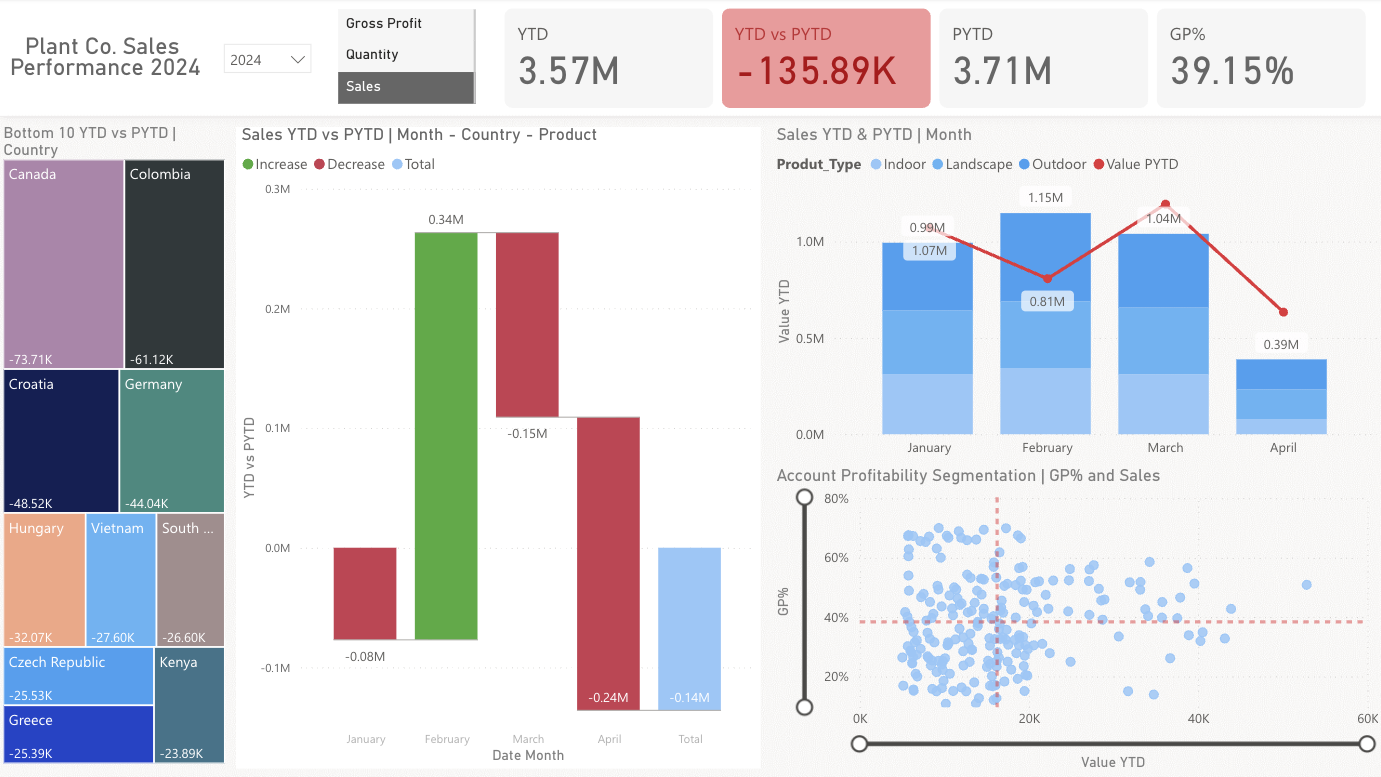

Layout of this report page (visuals, bound fields, positions):
{"tool":"powerbi","page":{"name":"Performance Report","canvas":[1280,720],"ordinal":0},"visuals":[{"type":"cardVisual","fields":{"Data":["_Measures.S_YTD","_Measures.YTD vs PYTD","_Measures.S_PYTD","_Measures.GP%"]},"box":[463,4.2,806.2,102.1],"z":0},{"type":"advancedSlicerVisual","fields":{"Values":["Slc_Values.Values"]},"box":[309.8,5.9,137.3,98],"z":1000},{"type":"slicer","fields":{"Values":["Dim_Date.Date.Variation.Date Hierarchy.Year"]},"box":[198.4,32.7,101.3,50.2],"z":2000},{"type":"treemap","title":"Bottom 10 YTD vs PYTD | Country","fields":{"Values":["_Measures.YTD vs PYTD"],"Group":["Dim_Account.country"]},"box":[0,118.7,214.6,594.4],"z":3000},{"type":"waterfallChart","fields":{"Y":["_Measures.YTD vs PYTD"],"Category":["Dim_Date.Date.Variation.Date Hierarchy.Month","Dim_Account.country","Dim_Product.Produt_Type","Dim_Product.Product_Name"]},"box":[220.3,119.6,485.2,593.5],"z":4000},{"type":"lineStackedColumnComboChart","fields":{"Y":["_Measures.S_YTD"],"Y2":["_Measures.S_PYTD"],"Category":["Dim_Date.Date.Variation.Date Hierarchy.Quarter","Dim_Date.Date.Variation.Date Hierarchy.Month"],"Series":["Dim_Product.Produt_Type"]},"box":[714.1,119.6,565.9,314.3],"z":5000},{"type":"scatterChart","fields":{"Y":["_Measures.GP%"],"X":["_Measures.S_YTD"],"Category":["Dim_Account.Account"]},"box":[714.1,433.9,565.9,285.8],"z":6000},{"type":"card","fields":{"Values":["_Measures._Report title"]},"box":[0,20.9,198.5,68.4],"z":7000}]}

Visuals, with their boxes in screenshot pixels (x1, y1, x2, y2), scaled from the page's 1280x720 canvas onto the 1381x777 screenshot:
cardVisual - _Measures.S_YTD x _Measures.YTD vs PYTD: detection(500, 5, 1369, 115)
advancedSlicerVisual - Slc_Values.Values: detection(334, 6, 482, 112)
slicer - Dim_Date.Date.Variation.Date Hierarchy.Year: detection(214, 35, 323, 89)
"Bottom 10 YTD vs PYTD | Country" treemap: detection(0, 128, 232, 770)
waterfallChart - _Measures.YTD vs PYTD x Dim_Date.Date.Variation.Date Hierarchy.Month: detection(238, 129, 761, 770)
lineStackedColumnComboChart - _Measures.S_YTD x _Measures.S_PYTD: detection(770, 129, 1380, 468)
scatterChart - _Measures.GP% x _Measures.S_YTD: detection(770, 468, 1380, 776)
card - _Measures._Report title: detection(0, 23, 214, 96)
